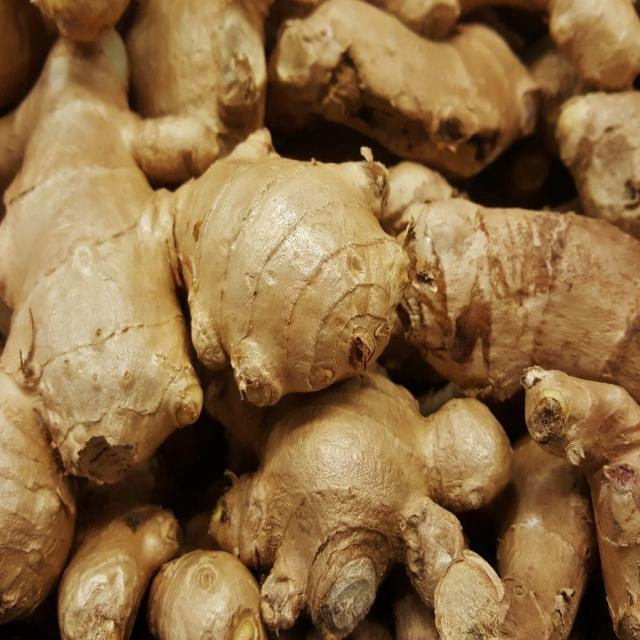ginger: (21, 50, 382, 489), (404, 162, 631, 560)
